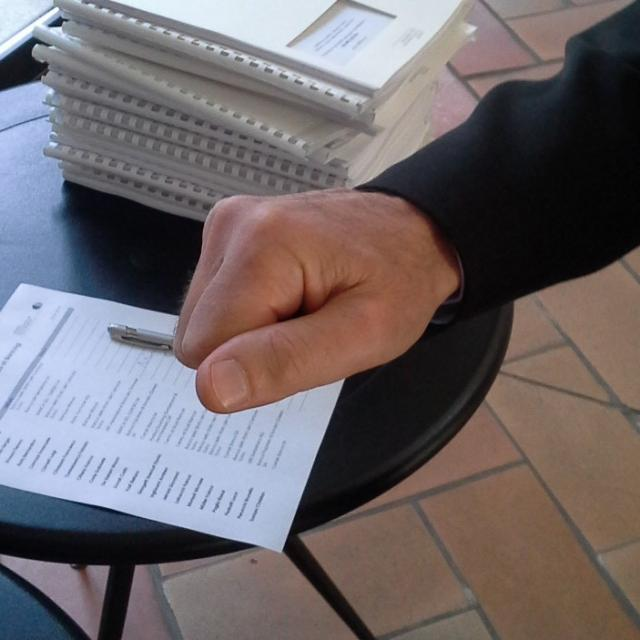rock: (172, 193, 435, 415)
